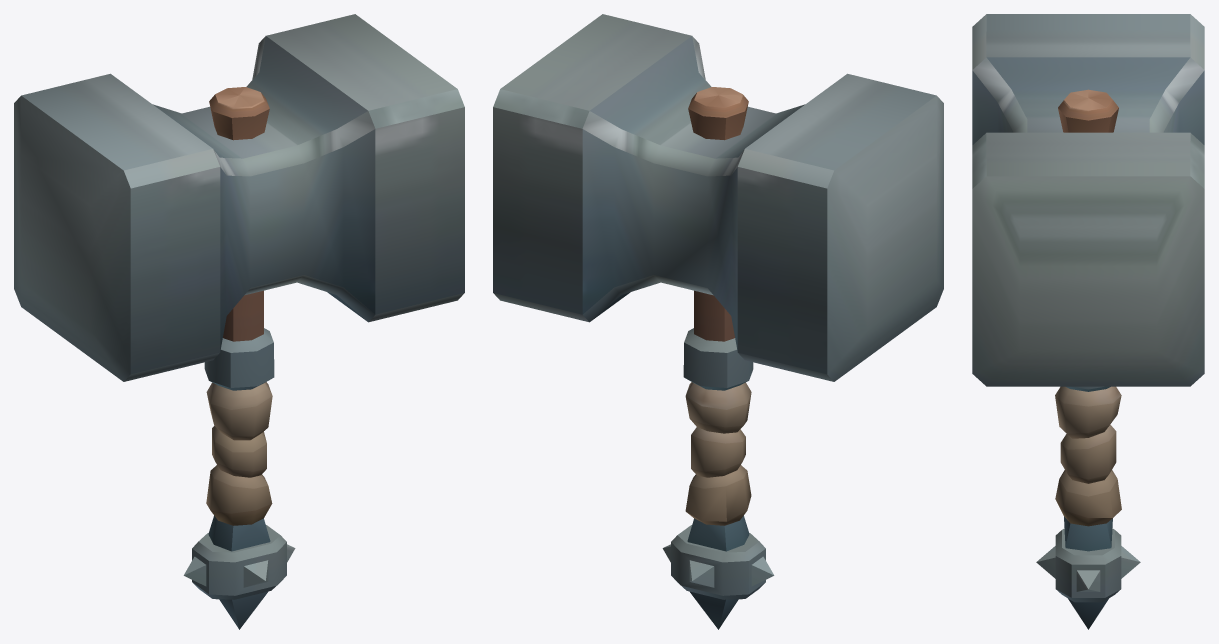
File: wpn_hammer_A.glb
3 views of the same model, side by side, from view 1: azimuth 30°, elevation 25°; view 2: azimuth 150°, elevation 25°; view 3: azimuth 270°, elevation 25° (orthographic).
Visible parts, largest first — view 1: hammer_A; view 2: hammer_A; view 3: hammer_A.
Boxes of the visible parts, left/top/right/bottom form: hammer_A: left=14, top=14, right=464, bottom=629; hammer_A: left=493, top=14, right=943, bottom=629; hammer_A: left=972, top=14, right=1204, bottom=629.
Size of the model in its own units: 0.8136 by 1.14 by 0.448.
Materials: 1 (1 with a texture image).
